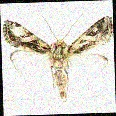Spodoptera litura: (3, 10, 115, 104)
